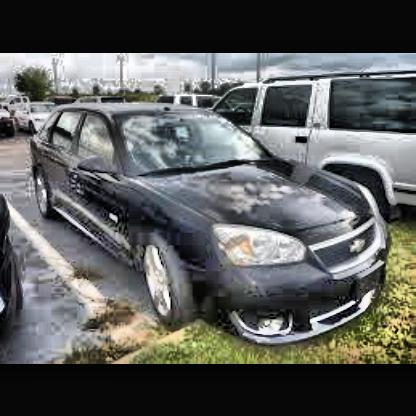Chevrolet Malibu Sedan 2007: (29, 101, 398, 349)
